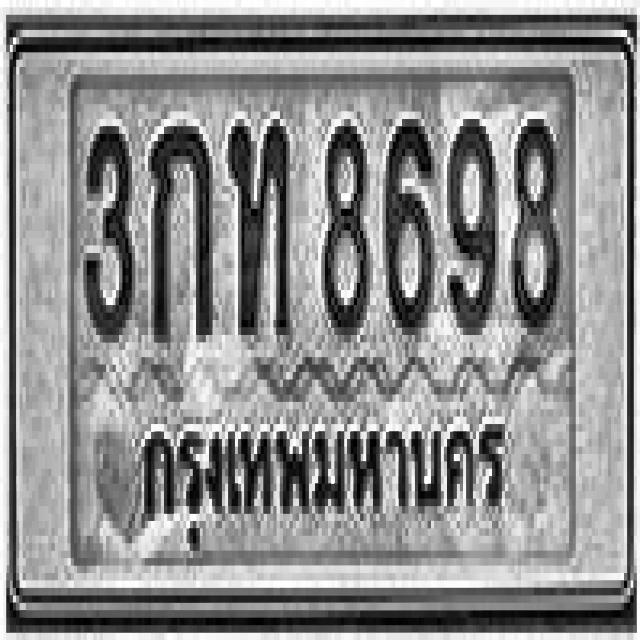license-plate: (12, 33, 634, 607)
